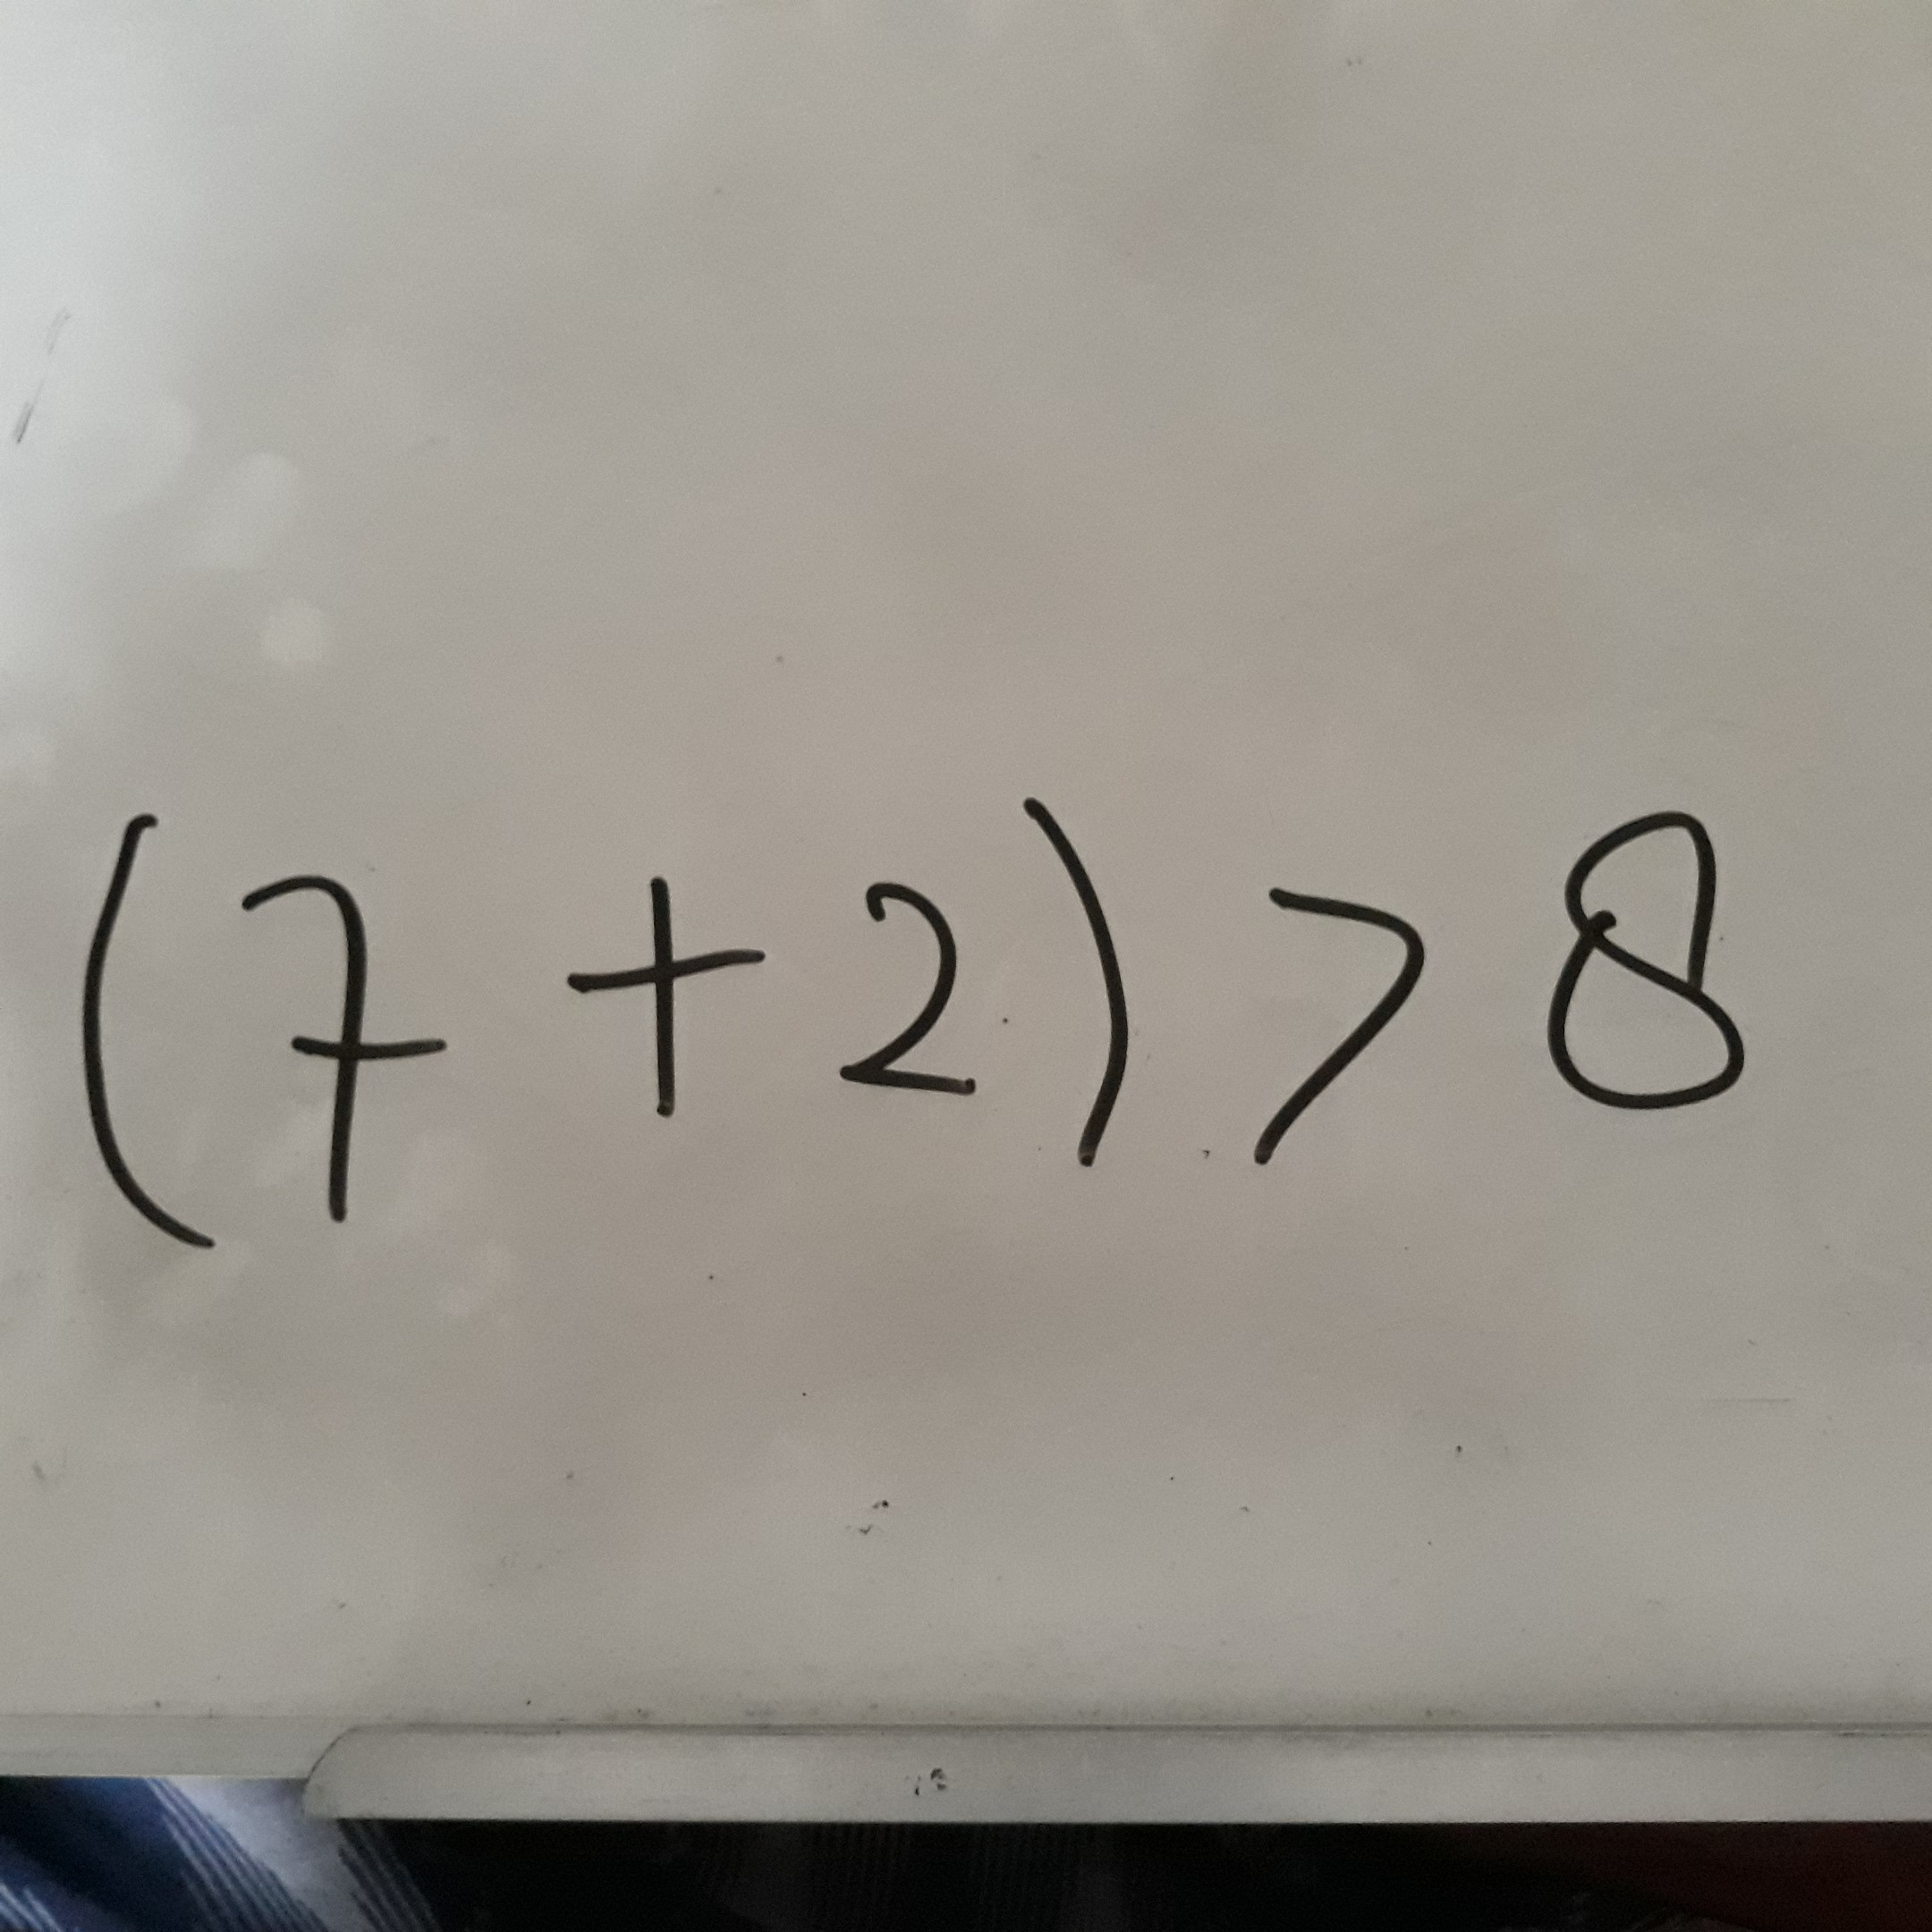closebracket: (1013, 756, 1159, 1199)
morethan: (1224, 877, 1446, 1173)
num2: (807, 856, 1025, 1130)
num7: (233, 864, 457, 1238)
num8: (1543, 793, 1768, 1138)
openbracket: (64, 785, 225, 1274)
sum: (559, 864, 777, 1138)
